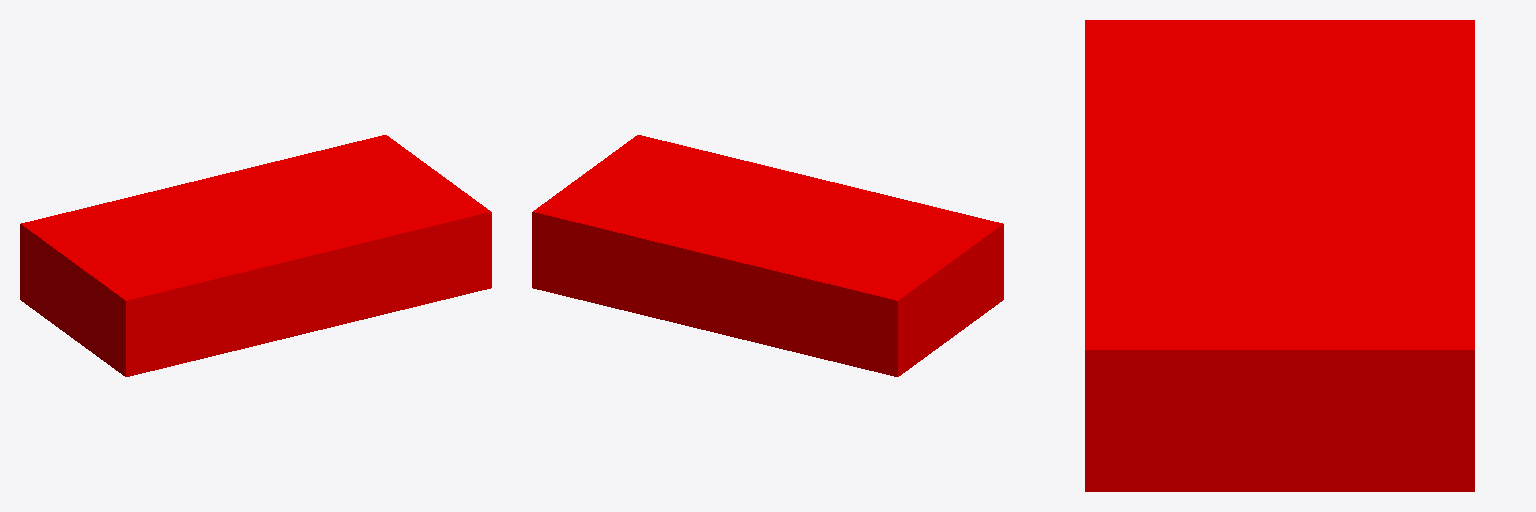
The robot description file, URDF, robot "wall2":
<?xml version="1.0"?>
<robot name="wall2">
	<link name="base">
	<inertial>
        	 <origin xyz="0 0 0" rpy="0 0 0"/>
        	 <mass value="1"/>
        	 <inertia ixx="0.000683333"  ixy="0"  ixz="0" iyy="0.000683333" iyz="0" izz="0.000683333" />
       </inertial>
		<visual>
			<origin xyz="0 0 0" rpy="0 0 0" />
			<geometry>
			<box size="0.1 0.05 0.02" />
			</geometry>
			<material>
				<color rgba="1 0 0 1" />
			</material>
		</visual>
	<collision>
            <origin xyz="0 0 0" rpy="0 0 0" />
            <geometry>
			<box size="0.1 0.05 0.02" />
            </geometry>
		<material>
			<color rgba="1 0 0 1" />
		</material>
        </collision>
	</link>
</robot>

--- What the picture shows (computed from the rendered views, not written in the file) ---
The picture shows the robot from 3 angles, left to right: view 1: azimuth 30°, elevation 25°; view 2: azimuth 150°, elevation 25°; view 3: azimuth 270°, elevation 25°; orthographic projection.
Robot: wall2 — 1 links, 0 joints (none); root link base; default pose: all joints at 0.
Visible links, largest first — view 1: base; view 2: base; view 3: base.
Boxes of the visible links, box(x1,y1,x2,y2) form: base: box(20, 135, 491, 376); base: box(532, 135, 1003, 376); base: box(1085, 20, 1474, 491).
Size in the robot's own frame: 0.1 by 0.05 by 0.02 metres.
Geometry: primitives only (box / cylinder / sphere), no mesh files.
